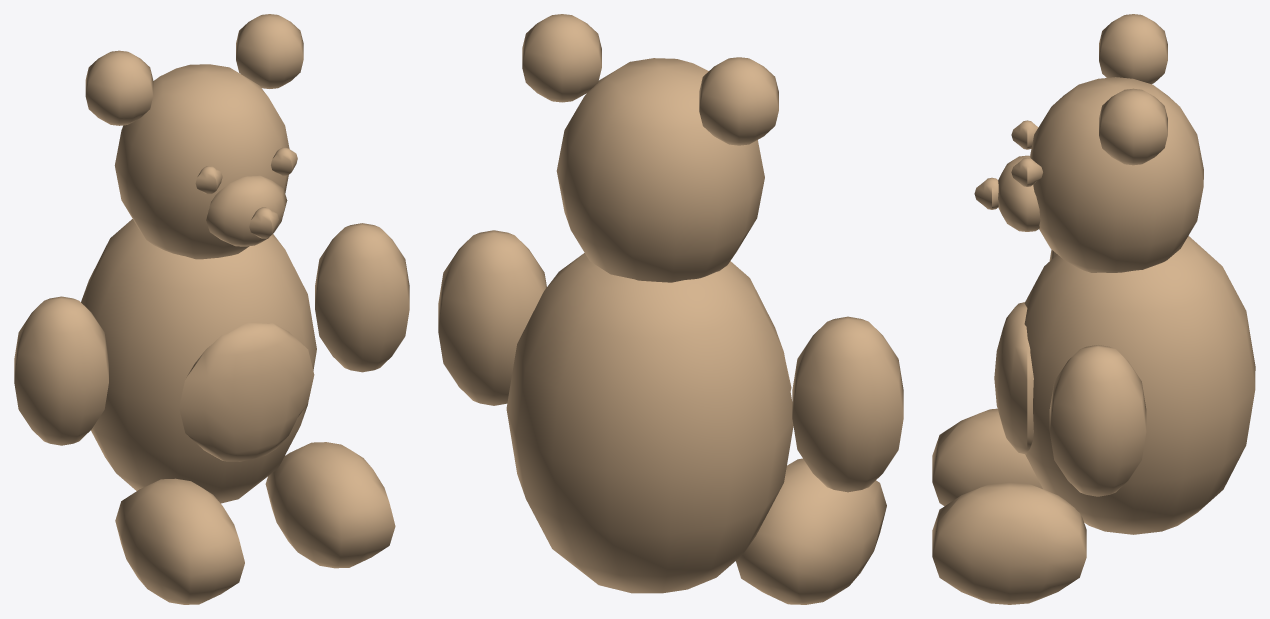
The model's file is GauBong_Cu.glb.
The picture shows the model from 3 angles, left to right: view 1: azimuth 30°, elevation 25°; view 2: azimuth 150°, elevation 25°; view 3: azimuth 270°, elevation 25°; orthographic projection. The views are drawn at different scales.
Parts seen in each view (by area): view 1: GauBong_Cu; view 2: GauBong_Cu; view 3: GauBong_Cu.
Boxes of the visible parts, box(x1,y1,x2,y2) form: GauBong_Cu: box(14, 14, 409, 604); GauBong_Cu: box(438, 14, 903, 604); GauBong_Cu: box(932, 14, 1255, 604).
Size of the model in its own units: 0.263 by 0.3167 by 0.1827.
